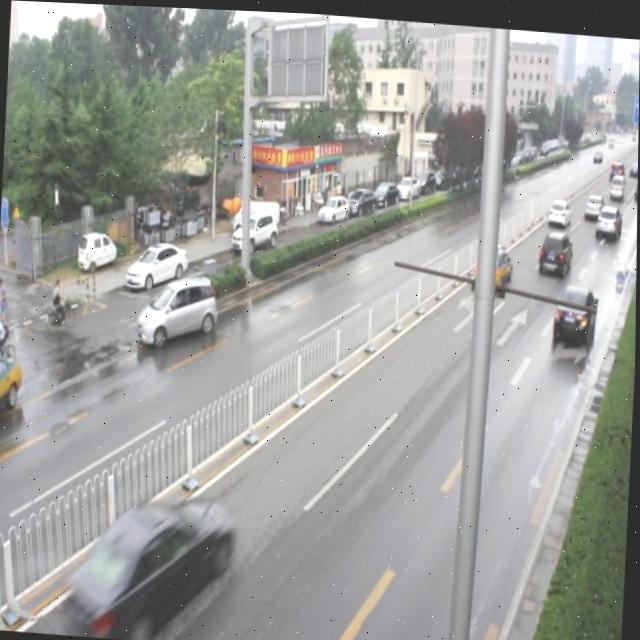car: (66, 487, 237, 635), (138, 271, 218, 351), (551, 277, 598, 345), (469, 237, 512, 293), (537, 222, 571, 272), (594, 194, 620, 235), (546, 191, 570, 223)
